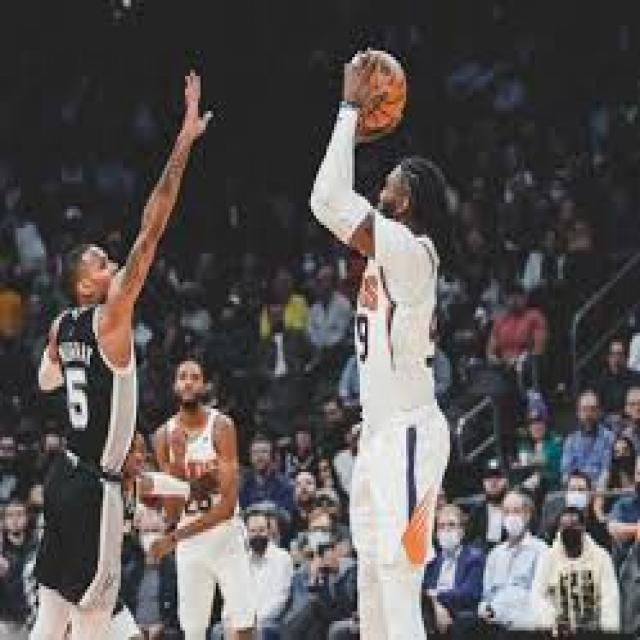rim: (342, 47, 404, 126)
